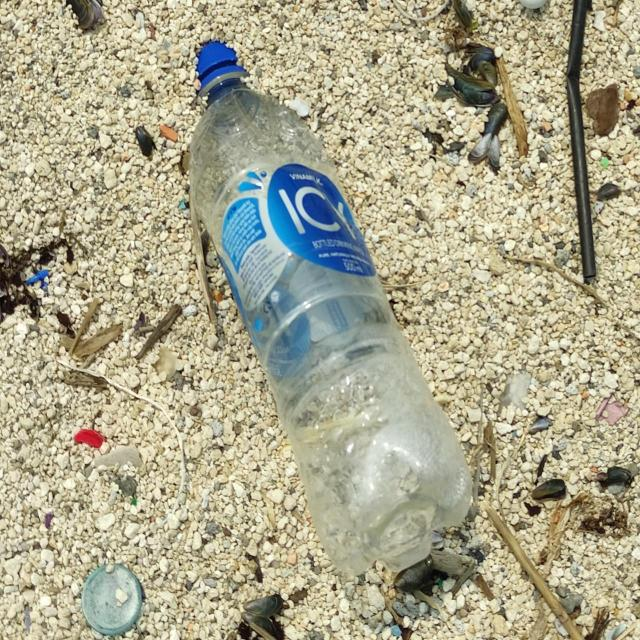plastic_waste: (192, 43, 472, 579), (82, 566, 144, 638)
